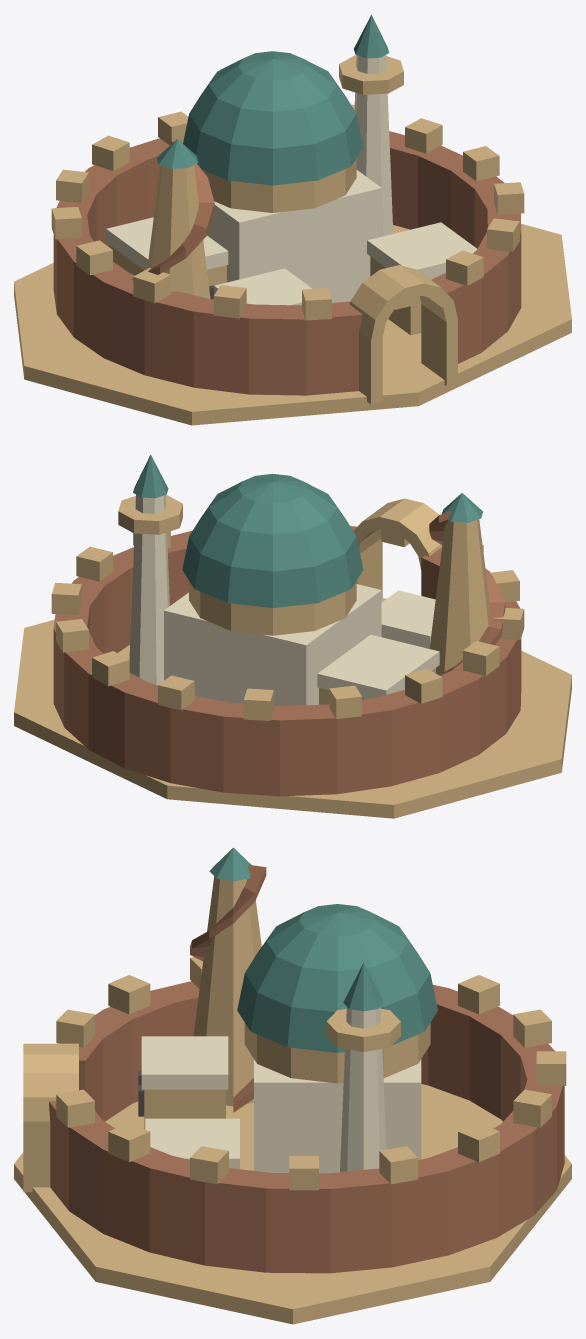
The model's file is baghdad.glb.
3 views of the same model, one above another, from view 1: azimuth 30°, elevation 25°; view 2: azimuth 150°, elevation 25°; view 3: azimuth 270°, elevation 25° (orthographic). The views are drawn at different scales.
Parts seen in each view (by area): view 1: baghdad_sandstone, baghdad_brick, baghdad_cream, baghdad_teal; view 2: baghdad_sandstone, baghdad_brick, baghdad_cream, baghdad_teal; view 3: baghdad_brick, baghdad_sandstone, baghdad_cream, baghdad_teal.
Boxes of the visible parts, left/top/right/bottom form: baghdad_sandstone: left=14, top=55, right=571, bottom=425; baghdad_brick: left=53, top=131, right=521, bottom=395; baghdad_cream: left=106, top=55, right=476, bottom=305; baghdad_teal: left=156, top=15, right=389, bottom=185; baghdad_sandstone: left=14, top=495, right=571, bottom=818; baghdad_brick: left=53, top=511, right=521, bottom=796; baghdad_cream: left=129, top=494, right=439, bottom=706; baghdad_teal: left=133, top=454, right=482, bottom=608; baghdad_brick: left=49, top=865, right=564, bottom=1273; baghdad_sandstone: left=14, top=876, right=571, bottom=1324; baghdad_cream: left=141, top=1007, right=421, bottom=1173; baghdad_teal: left=209, top=847, right=437, bottom=1052.
Size of the model in its own units: 2.1 by 0.9308 by 1.7.
